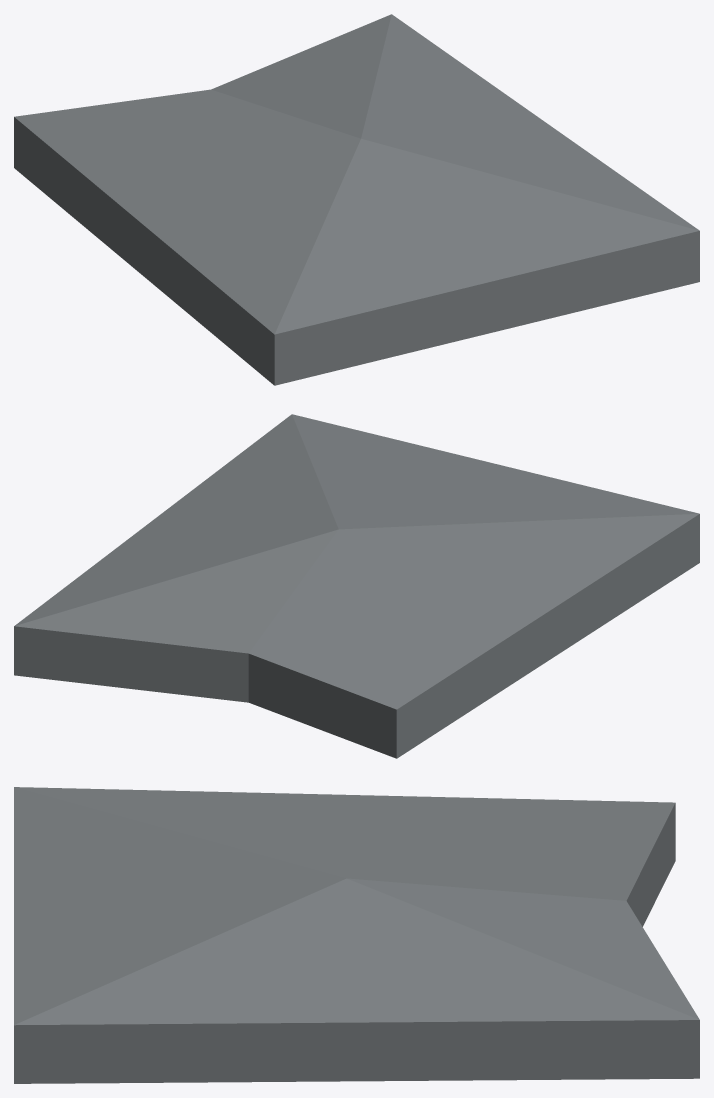
File: Rock_A.FBX
3 renders of one model, top to bottom at view 1: azimuth 30°, elevation 25°; view 2: azimuth 150°, elevation 25°; view 3: azimuth 270°, elevation 25°, orthographic. The views are drawn at different scales.
Parts seen in each view (by area): view 1: rock_1; view 2: rock_1; view 3: rock_1.
Boxes of the visible parts, bbox=[...] form: rock_1: bbox=[14, 14, 699, 385]; rock_1: bbox=[14, 414, 699, 758]; rock_1: bbox=[14, 787, 699, 1083].
Size of the model in its own units: 57.97 by 15.42 by 70.57.
Materials: 1 (1 with a texture image).
